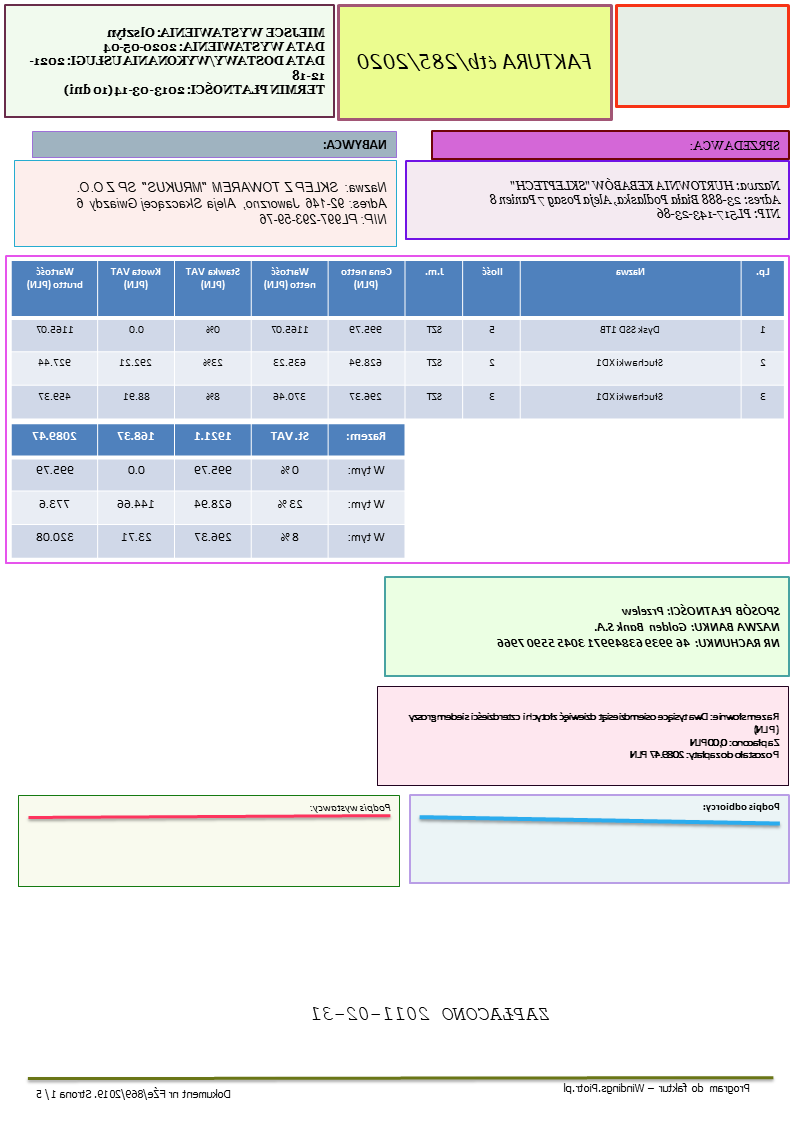Table: (12, 260, 786, 420), (10, 422, 407, 559)
TextBox: (28, 25, 327, 98), (406, 709, 783, 761), (74, 178, 389, 228), (495, 602, 782, 651), (490, 177, 783, 222), (356, 48, 594, 75), (309, 1005, 551, 1025), (35, 1085, 234, 1106), (562, 1081, 753, 1097), (688, 138, 783, 154), (698, 800, 784, 815), (322, 137, 389, 154), (309, 802, 393, 815)
